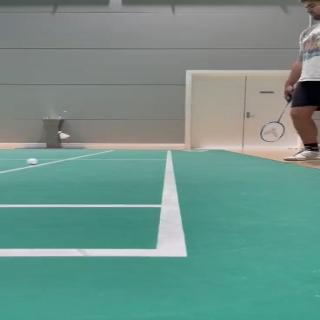Shuttle: (57, 130, 70, 140), (26, 158, 38, 165)
